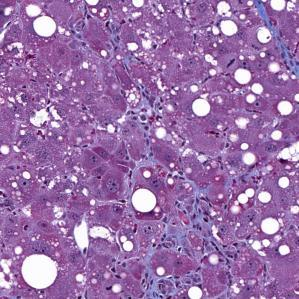fibrosis: (259, 8, 296, 79)
